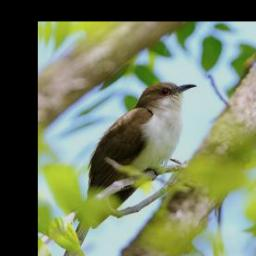Cuckoo: (46, 79, 197, 256)
